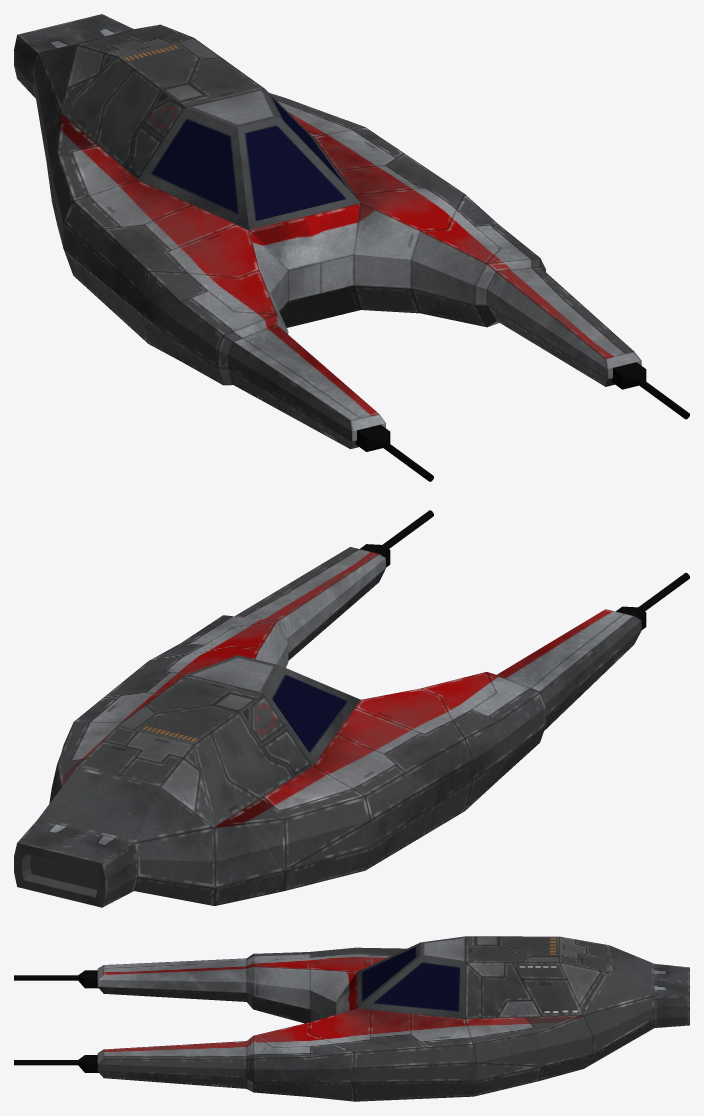
The model's file is Spaceship3.fbx.
The picture shows the model from 3 angles, top to bottom: view 1: azimuth 30°, elevation 25°; view 2: azimuth 150°, elevation 25°; view 3: azimuth 270°, elevation 25°; orthographic projection. The views are drawn at different scales.
Parts seen in each view (by area): view 1: Spaceship3, Spaceship3_DefaultWeapon; view 2: Spaceship3, Spaceship3_DefaultWeapon; view 3: Spaceship3, Spaceship3_DefaultWeapon.
Part boxes in pixels (x1,y1,x2,y2): Spaceship3: [14, 14, 641, 449]; Spaceship3_DefaultWeapon: [355, 362, 689, 481]; Spaceship3: [14, 547, 641, 907]; Spaceship3_DefaultWeapon: [360, 510, 689, 629]; Spaceship3: [97, 936, 689, 1101]; Spaceship3_DefaultWeapon: [14, 970, 98, 1072].
Size of the model in its own units: 402 by 194 by 1047.
